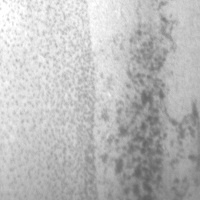pitted_surface: (1, 1, 98, 200), (105, 1, 198, 199)
